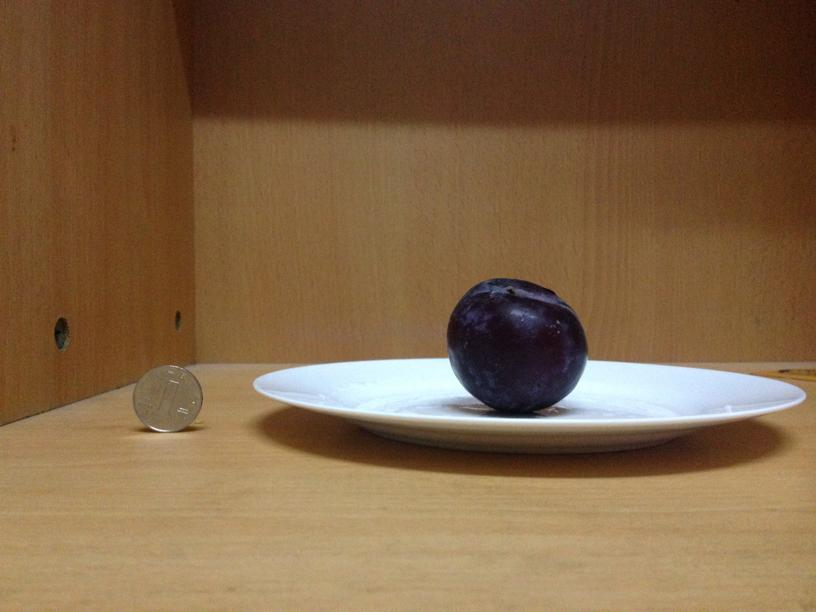coin: (127, 365, 205, 436)
plum: (441, 274, 588, 414)
